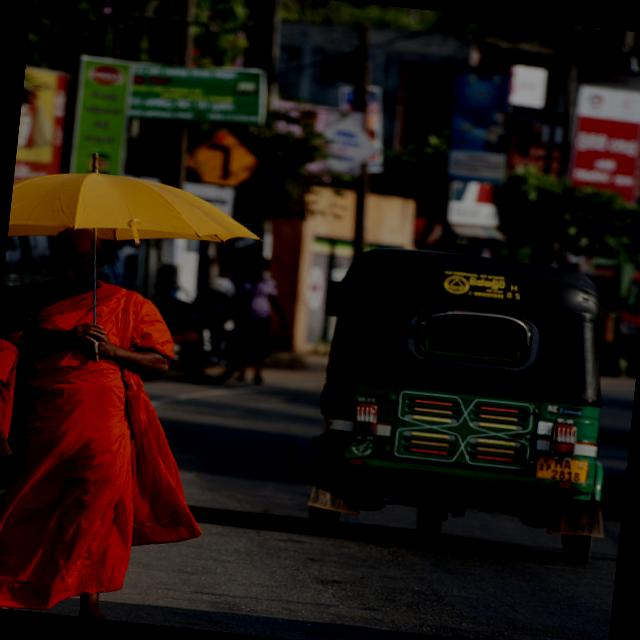Vehicle: (0, 171, 60, 370), (139, 286, 252, 384), (614, 263, 640, 336)
